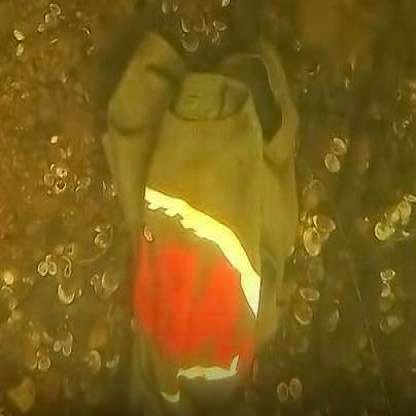misc: (113, 40, 288, 323)
